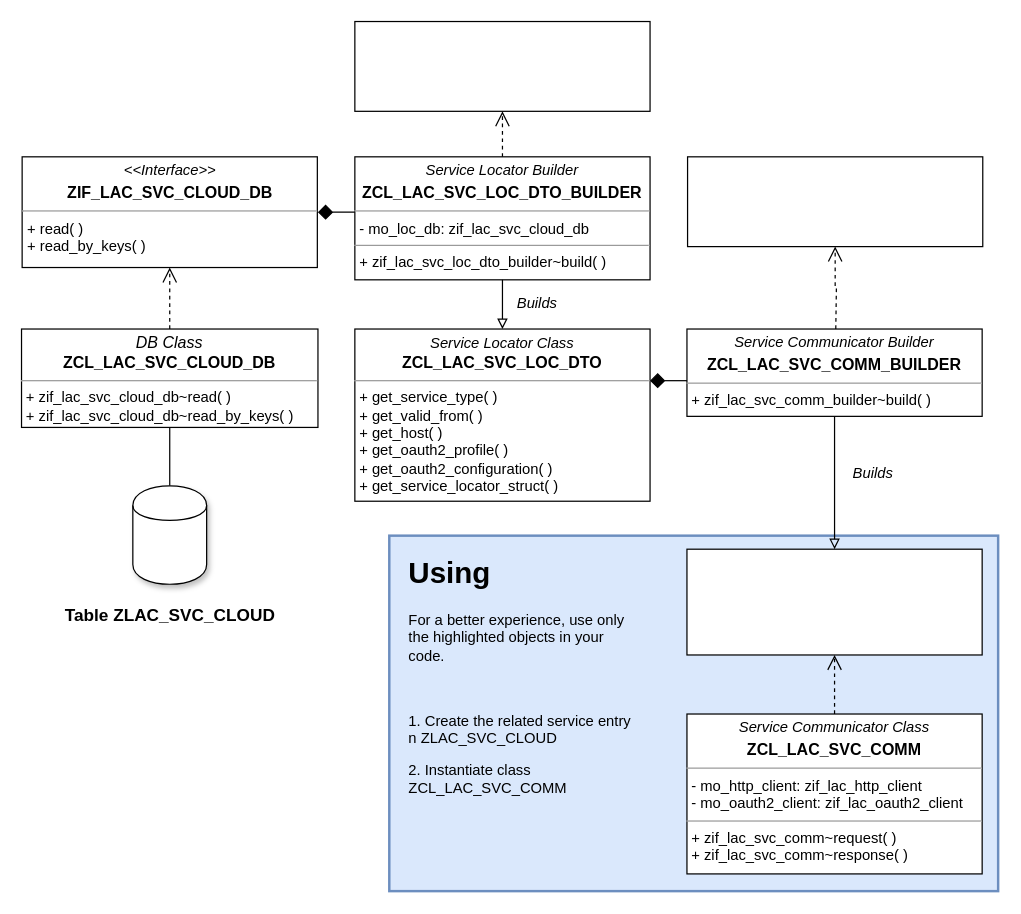
The diagram is 1021 pixels wide and 914 high, and some of its shapes have lost their labels. The shapes that lost their labels are listed below. From the top down, each one's centre as x and y in pixels, then its label:
[502,65]: <<Interface>> ZIF_LAC_SVC_LOC_DTO_BUILDER + build( )
[834,201]: <<Interface>> ZIF_LAC_SVC_COMM_BUILDER + build( )
[834,601]: <<Interface>> ZIF_LAC_SVC_COMM + request( ) + response( )
